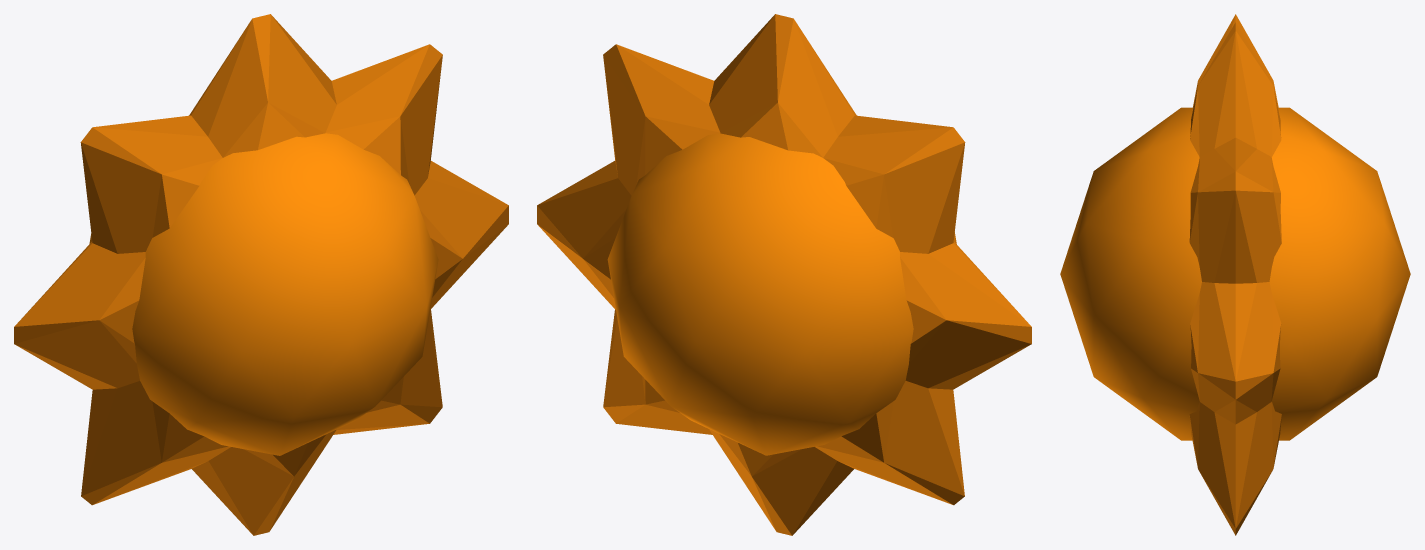
File: sun.glb
The picture shows the model from 3 angles, left to right: view 1: azimuth 30°, elevation 25°; view 2: azimuth 150°, elevation 25°; view 3: azimuth 270°, elevation 25°; orthographic projection. The views are drawn at different scales.
Parts seen in each view (by area): view 1: GeoSphere001, GeoSphere003, GeoSphere002; view 2: GeoSphere001, GeoSphere003, GeoSphere002; view 3: GeoSphere001, GeoSphere002, GeoSphere003.
Boxes of the visible parts, box(x1,y1,x2,y2) form: GeoSphere001: box(89, 133, 438, 455); GeoSphere003: box(14, 14, 508, 535); GeoSphere002: box(80, 44, 442, 505); GeoSphere001: box(607, 133, 956, 455); GeoSphere003: box(537, 14, 1031, 535); GeoSphere002: box(603, 44, 965, 505); GeoSphere001: box(1060, 107, 1410, 440); GeoSphere002: box(1189, 14, 1281, 535); GeoSphere003: box(1190, 22, 1281, 424).
Size of the model in its own units: 56.07 by 56.07 by 35.82.
